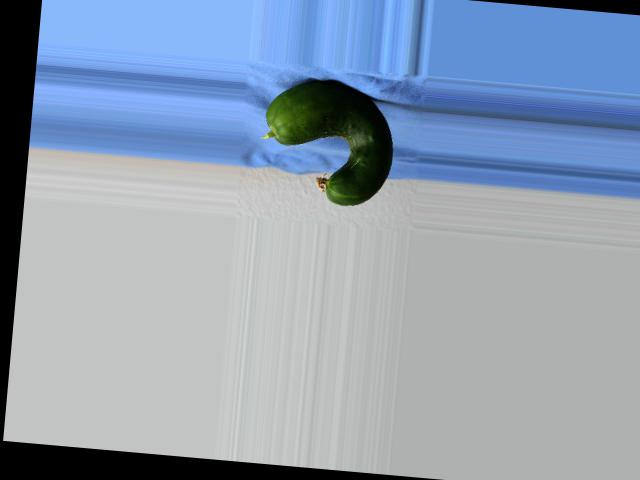cucumber: (258, 75, 398, 209)
